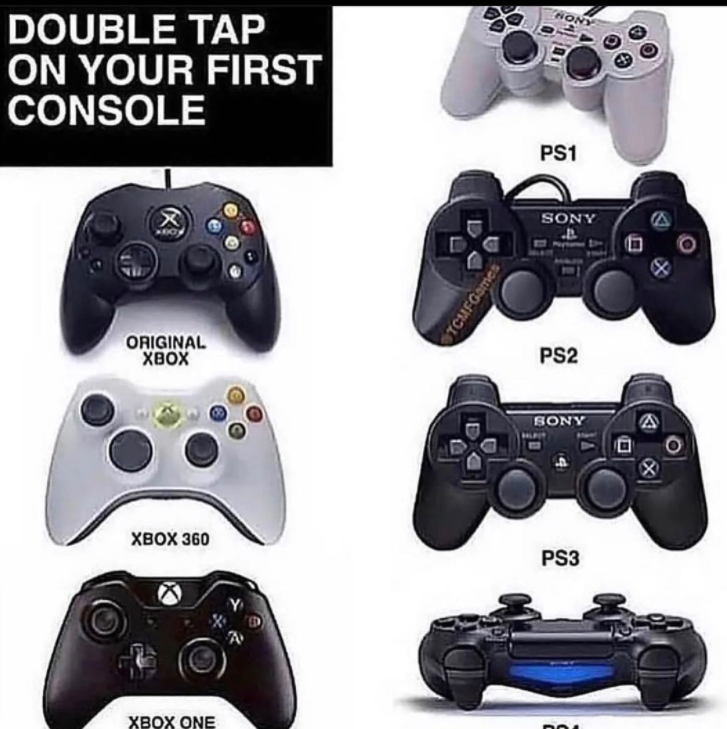gamingconsole: (425, 168, 717, 341), (421, 377, 708, 549), (51, 377, 290, 554), (45, 577, 301, 729), (442, 4, 672, 164), (65, 188, 279, 354), (415, 591, 708, 711)
